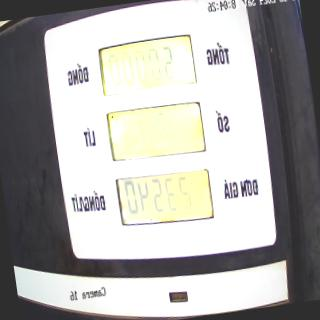screen: (94, 30, 218, 234)
